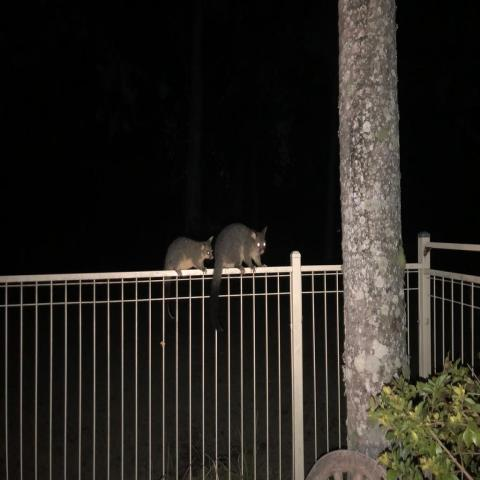small_animal: (208, 220, 269, 334), (162, 233, 214, 321)
